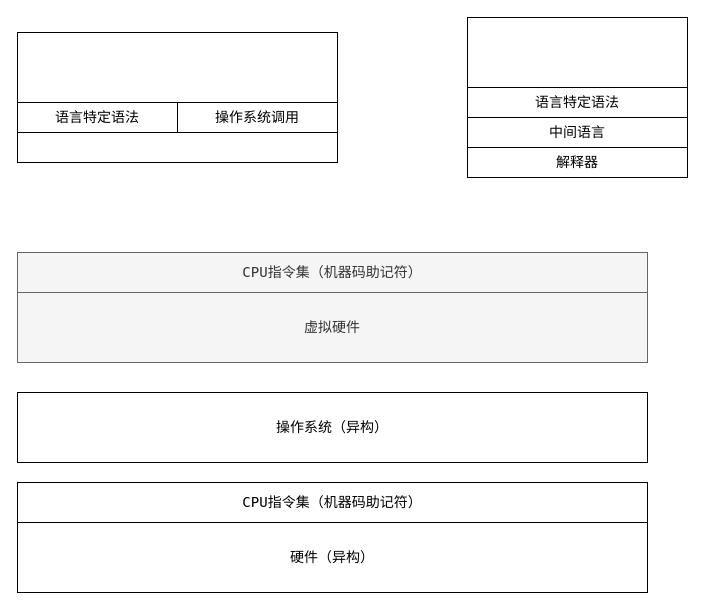
This 705x610 diagram has some shape labels left out. Each missing label, with the centre of its shape:
编译器: the point at 177,147
编译型语言: the point at 177,67
解释型语言: the point at 577,52
